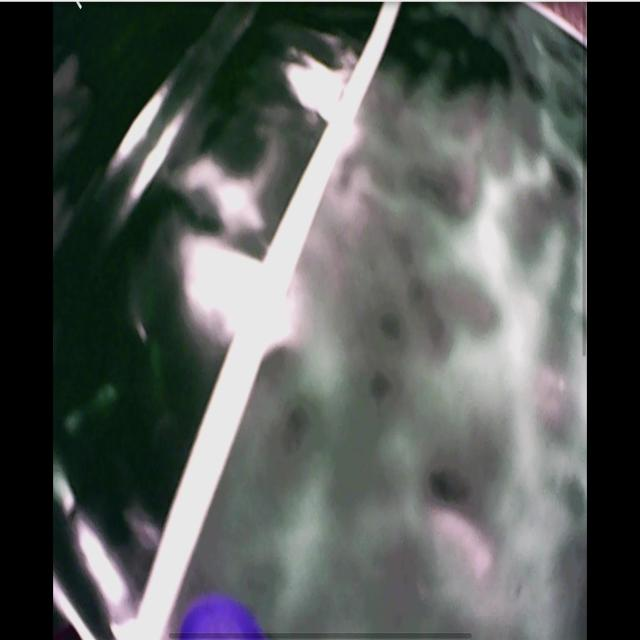ball: (181, 603, 264, 640)
